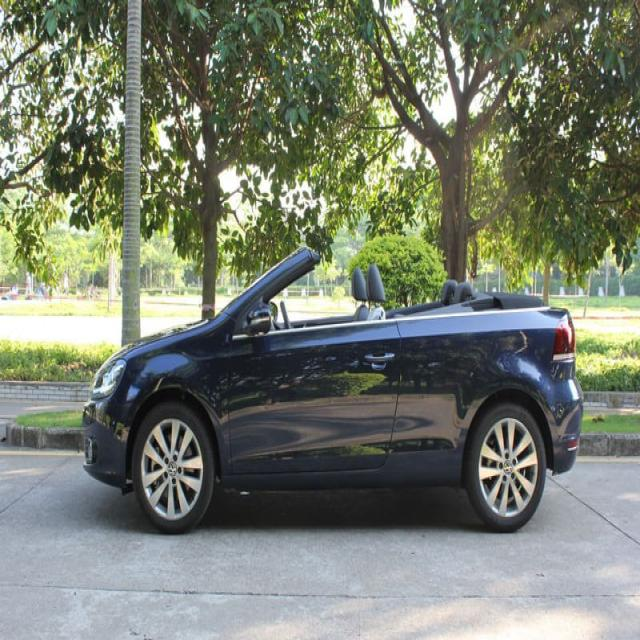back_left_side_light: (552, 305, 578, 373)
front_bumper: (79, 384, 138, 494)
front_left_side_door: (221, 306, 405, 482)
front_left_side_light: (89, 354, 127, 408)
front_left_side_mirror: (248, 299, 276, 341)
rear_bumper: (540, 358, 584, 478)
wheel: (466, 401, 546, 530), (136, 405, 213, 533)
